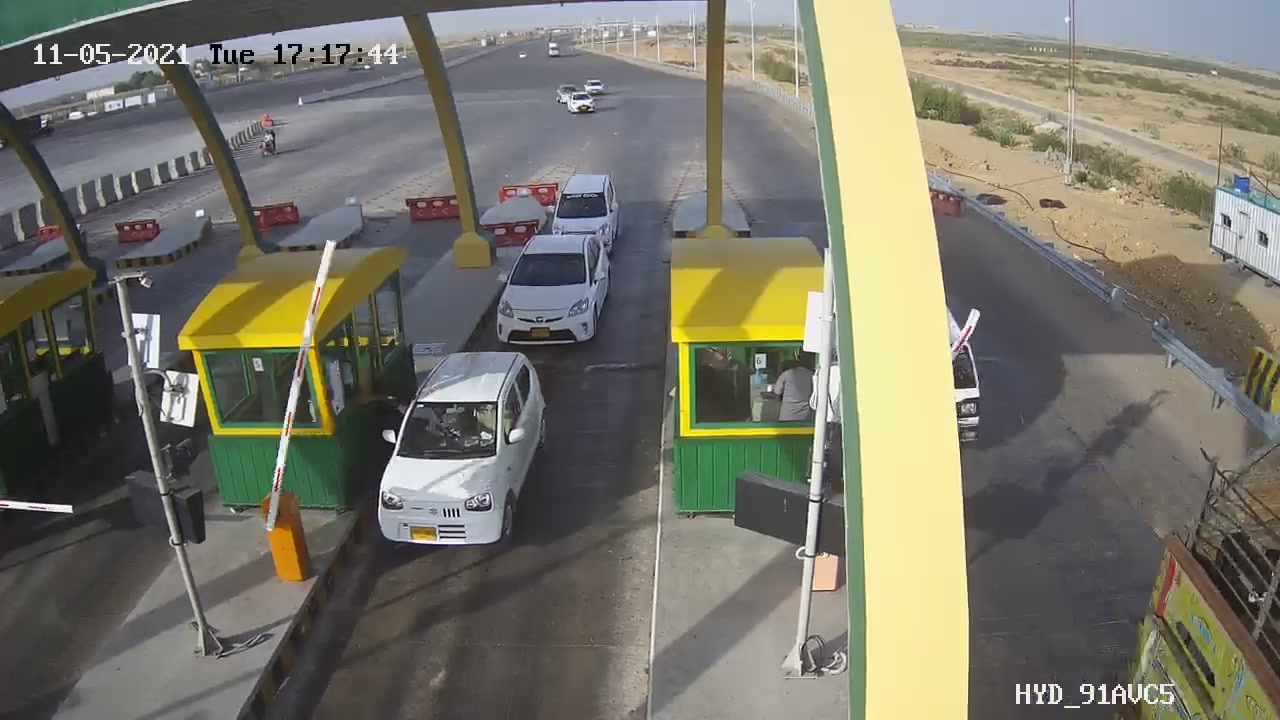F1: (363, 336, 563, 557), (481, 224, 631, 365)
